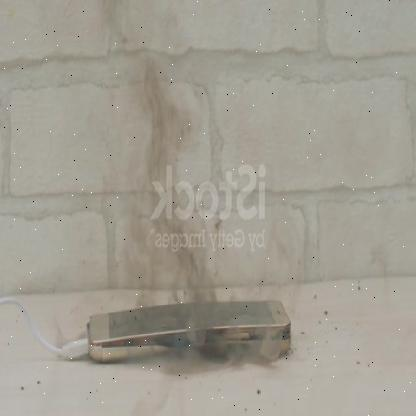smoke: (97, 0, 289, 377)
